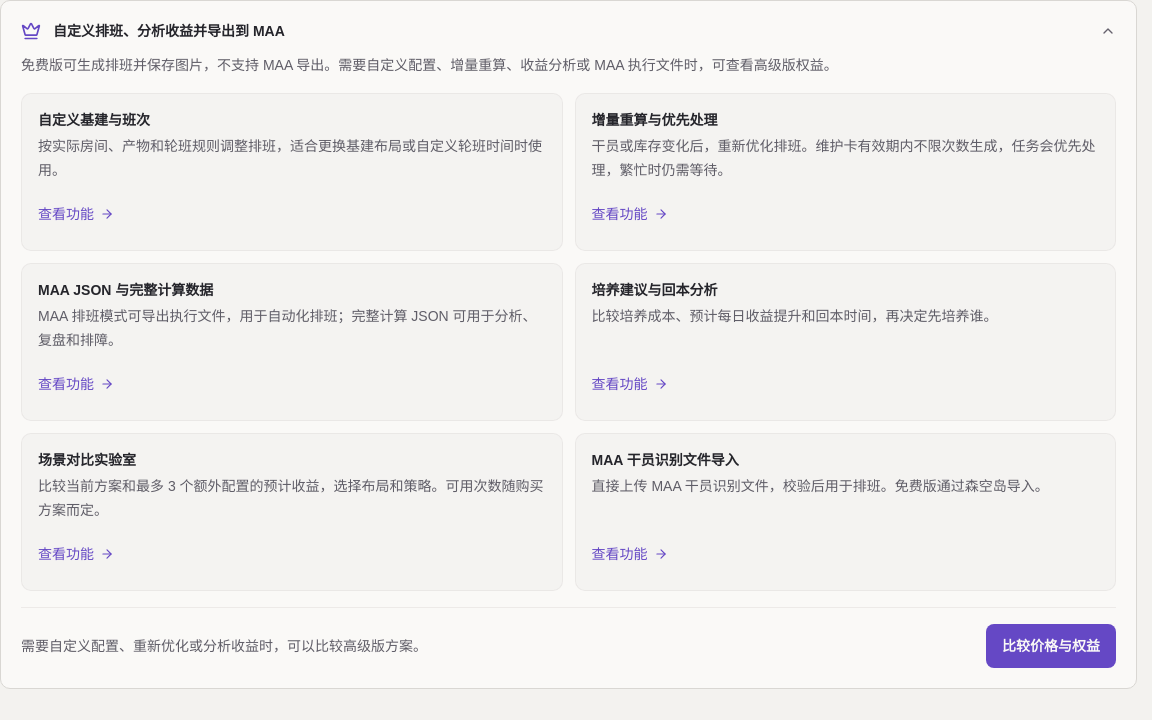
Test: does not offer a lab destination when the service is disabled
The image size is (1152, 720).
Click the button with aria-label "查看功能：场景对比实验室": (76, 554) [38, 534, 114, 574]
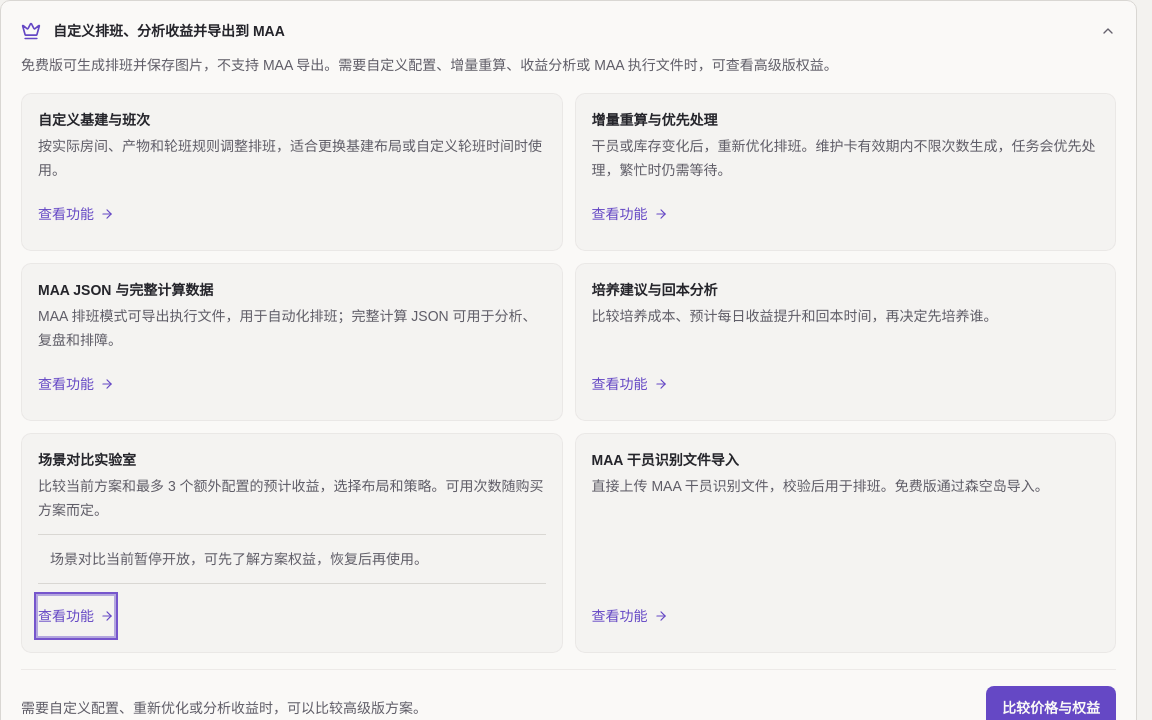
Now the text "场景对比当前暂停开放，可先了解方案权益，恢复后再使用。" is shown, box [50, 551, 428, 567]
